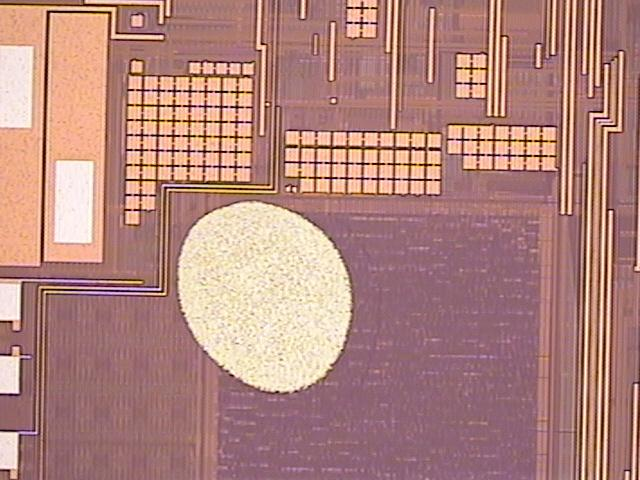BLOCK ETCH: (146, 183, 391, 414)
